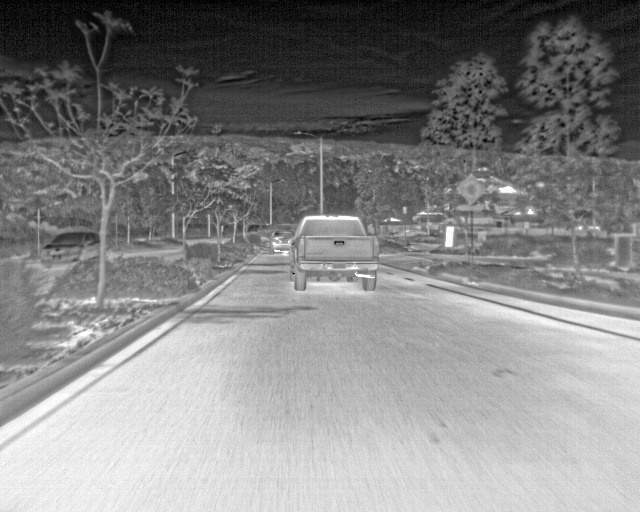vehicle: (292, 214, 382, 287), (269, 228, 301, 258)
